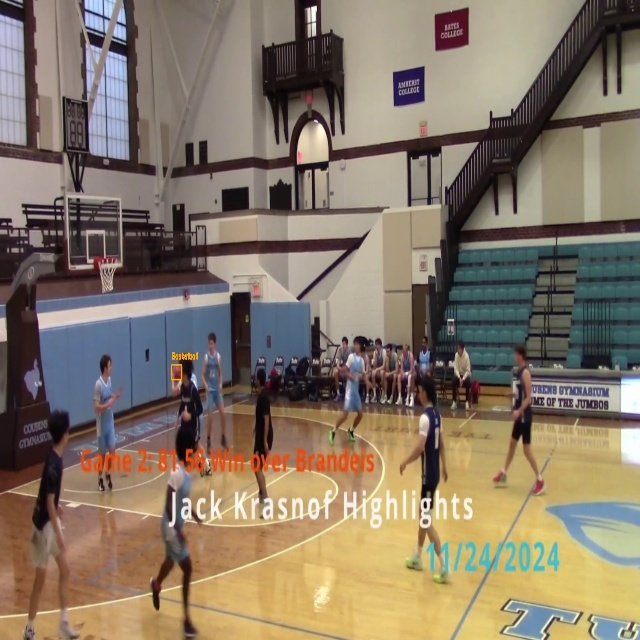Basketball: (172, 365, 182, 379)
